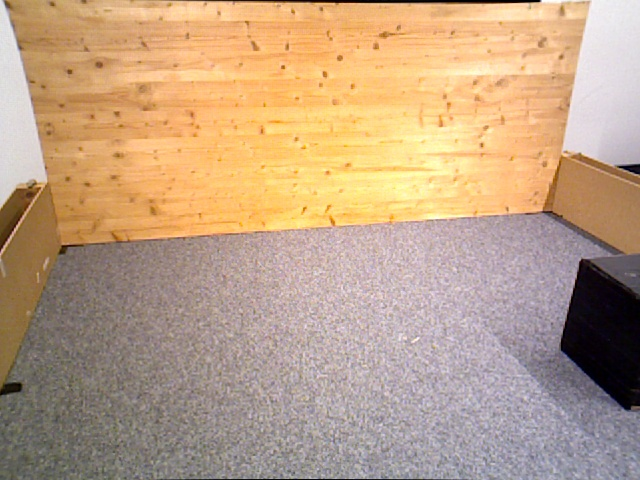push: (560, 251, 640, 410)
